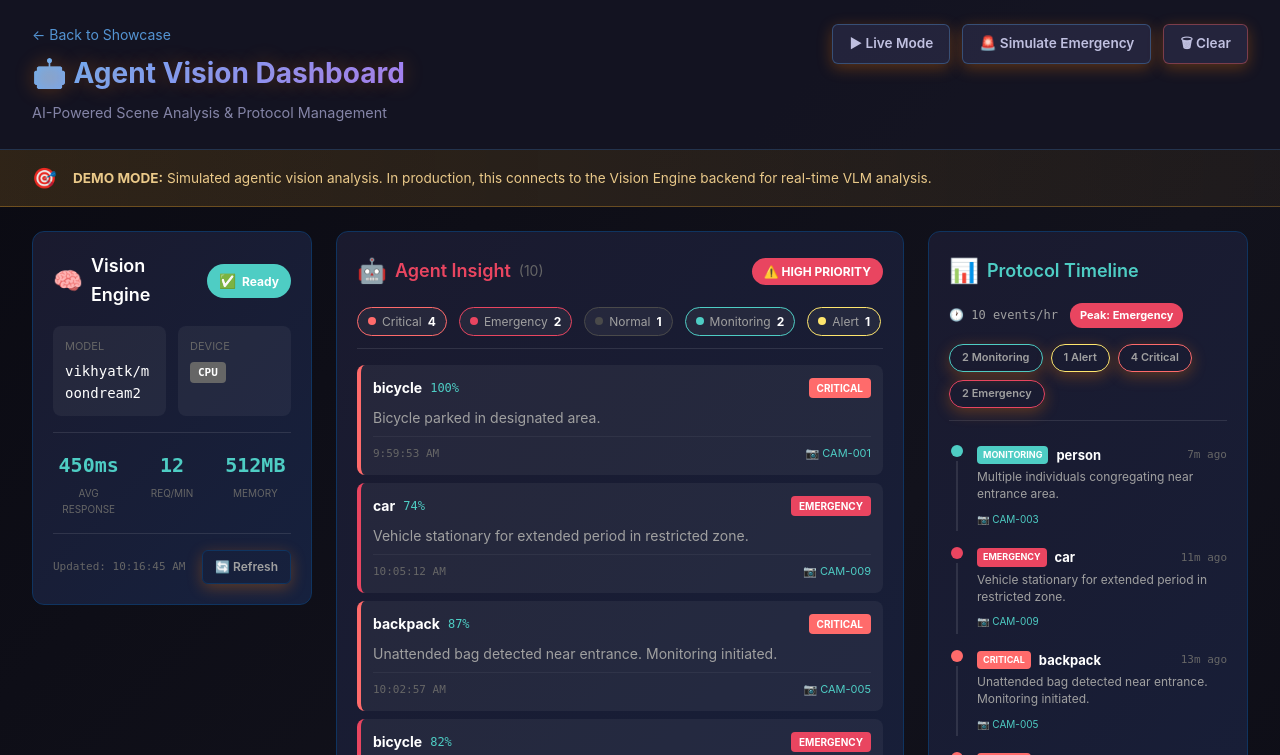
Test: AgentVisionDashboard › clear data › clears all insights on clear button click
Clear data
Click the button with test id "clear-data": (1206, 44) [1163,24,1248,64]
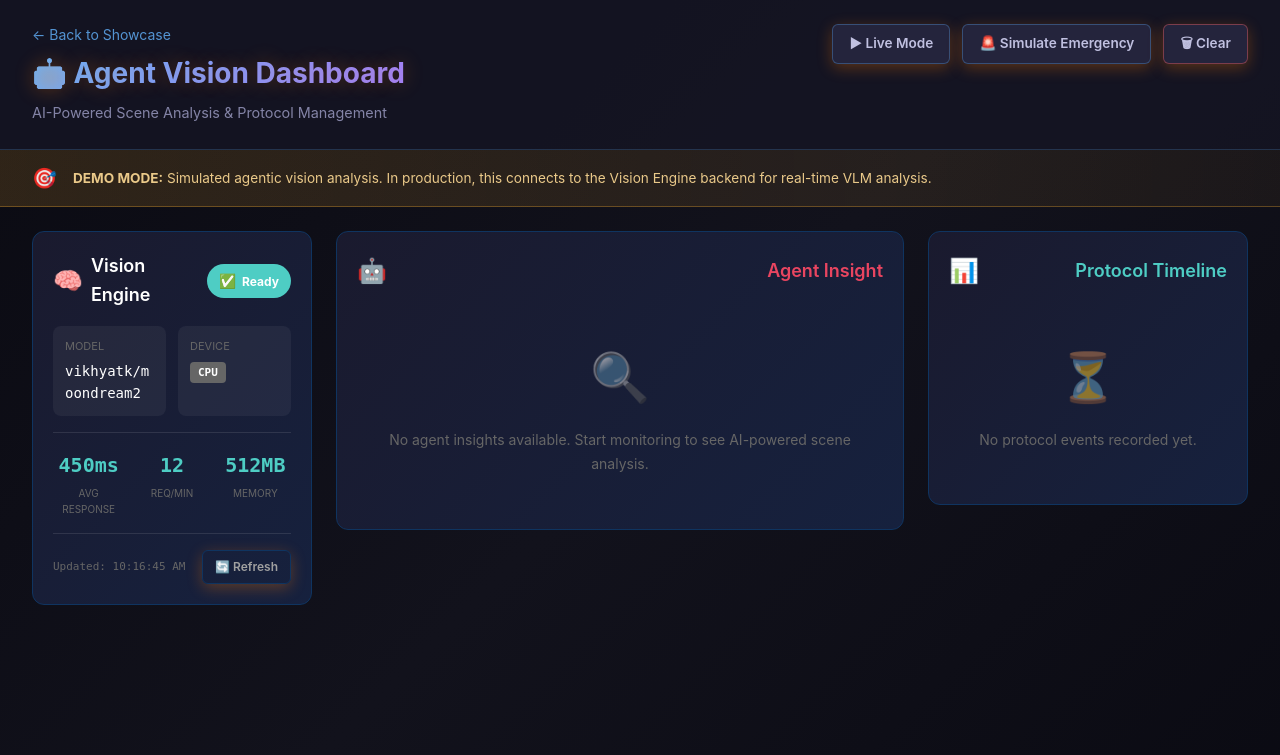
Now the text "No agent insights available" is shown, box [389,431,851,472]
